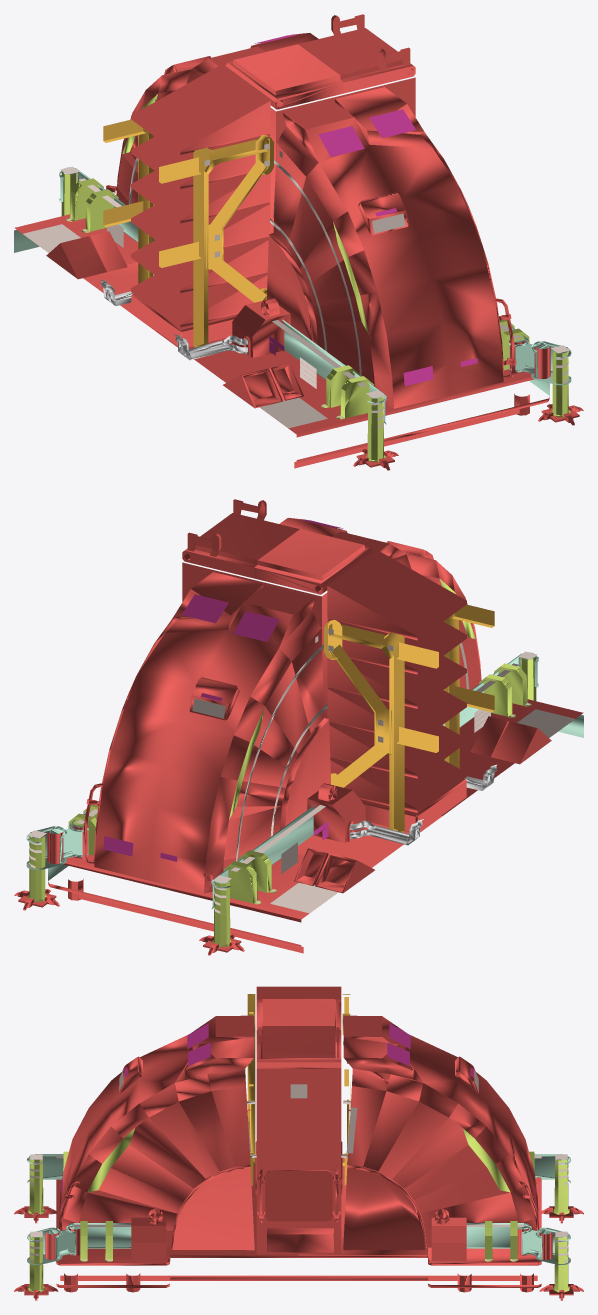
The model's file is generator_industrial_1_pirate_c.glb.
3 views of the same model, one above another, from view 1: azimuth 30°, elevation 25°; view 2: azimuth 150°, elevation 25°; view 3: azimuth 270°, elevation 25° (orthographic). The views are drawn at different scales.
Bounding box in the file's own units: 4.69 × 4.37 × 9.06.
